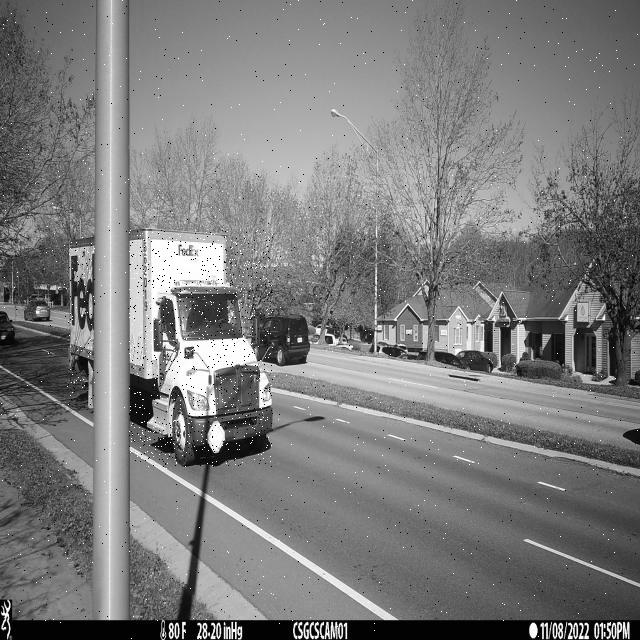Box Truck: (129, 230, 273, 467), (68, 236, 95, 409)
